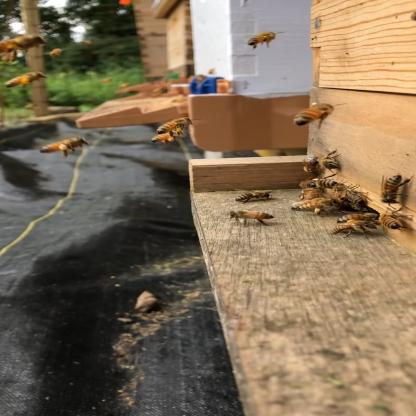bee: (294, 148, 416, 249), (275, 158, 372, 208), (203, 169, 285, 228), (0, 25, 61, 87), (312, 198, 387, 245), (277, 92, 351, 131), (43, 124, 112, 159), (356, 160, 402, 209), (144, 114, 207, 145), (289, 144, 358, 172), (141, 107, 199, 138), (230, 32, 294, 57), (220, 202, 277, 230), (228, 182, 271, 207)
